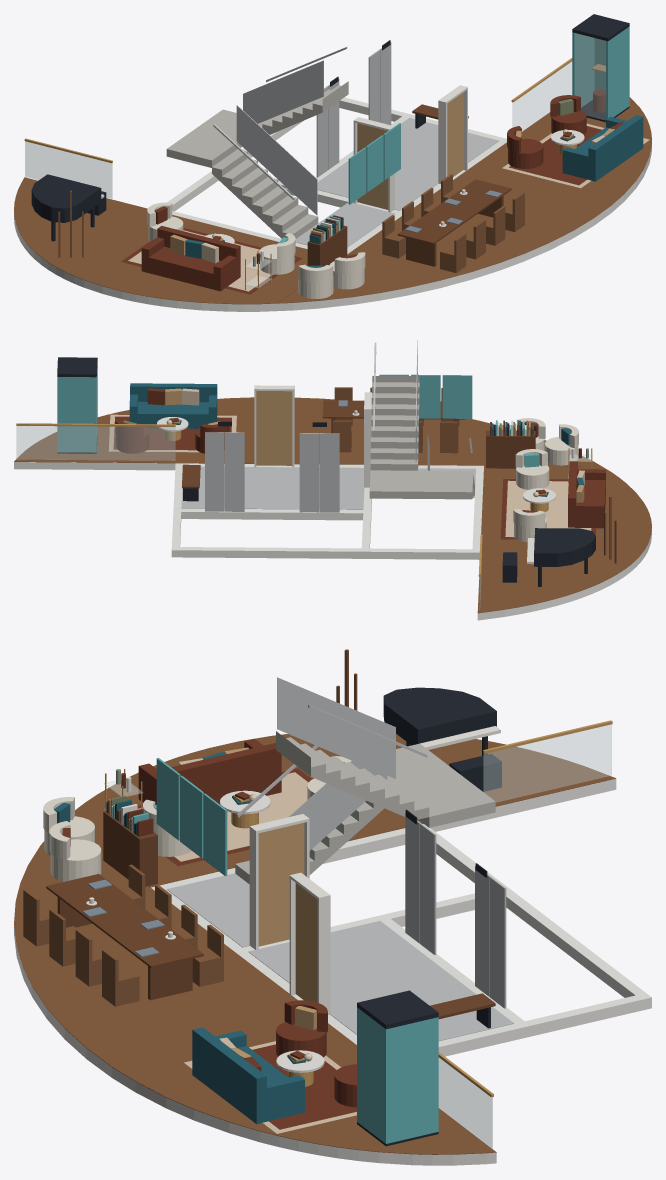
The picture shows the model from 3 angles, top to bottom: view 1: azimuth 30°, elevation 25°; view 2: azimuth 150°, elevation 25°; view 3: azimuth 270°, elevation 25°; orthographic projection. The views are drawn at different scales.
Visible parts, largest first — view 1: Pisos, Mobiliario, Barandales, Escaleras, Puertas, Equipo especial, Elementos genéricos; view 2: Pisos, Mobiliario, Escaleras, Equipo especial, Barandales, Puertas, Elementos genéricos; view 3: Pisos, Mobiliario, Barandales, Puertas, Escaleras, Equipo especial, Elementos genéricos.
Part boxes in pixels (x1=…): Pisos: x1=14, y1=97, x2=651, y2=311; Mobiliario: x1=31, y1=14, x2=649, y2=298; Barandales: x1=24, y1=47, x2=572, y2=215; Escaleras: x1=166, y1=81, x2=348, y2=238; Puertas: x1=353, y1=85, x2=467, y2=212; Equipo especial: x1=316, y1=40, x2=501, y2=232; Elementos genéricos: x1=348, y1=123, x2=400, y2=204; Pisos: x1=14, y1=397, x2=651, y2=620; Mobiliario: x1=57, y1=357, x2=616, y2=586; Escaleras: x1=369, y1=376, x2=474, y2=499; Equipo especial: x1=205, y1=400, x2=347, y2=512; Barandales: x1=16, y1=340, x2=482, y2=600; Puertas: x1=254, y1=385, x2=371, y2=487; Elementos genéricos: x1=379, y1=374, x2=472, y2=418; Pisos: x1=14, y1=734, x2=651, y2=1165; Mobiliario: x1=23, y1=649, x2=501, y2=1146; Barandales: x1=237, y1=677, x2=612, y2=1148; Puertas: x1=249, y1=814, x2=330, y2=1014; Escaleras: x1=235, y1=731, x2=495, y2=884; Equipo especial: x1=82, y1=809, x2=506, y2=1008; Elementos genéricos: x1=156, y1=758, x2=227, y2=876.
Bounding box in the file's own units: 16.67 × 4.38 × 10.59.
